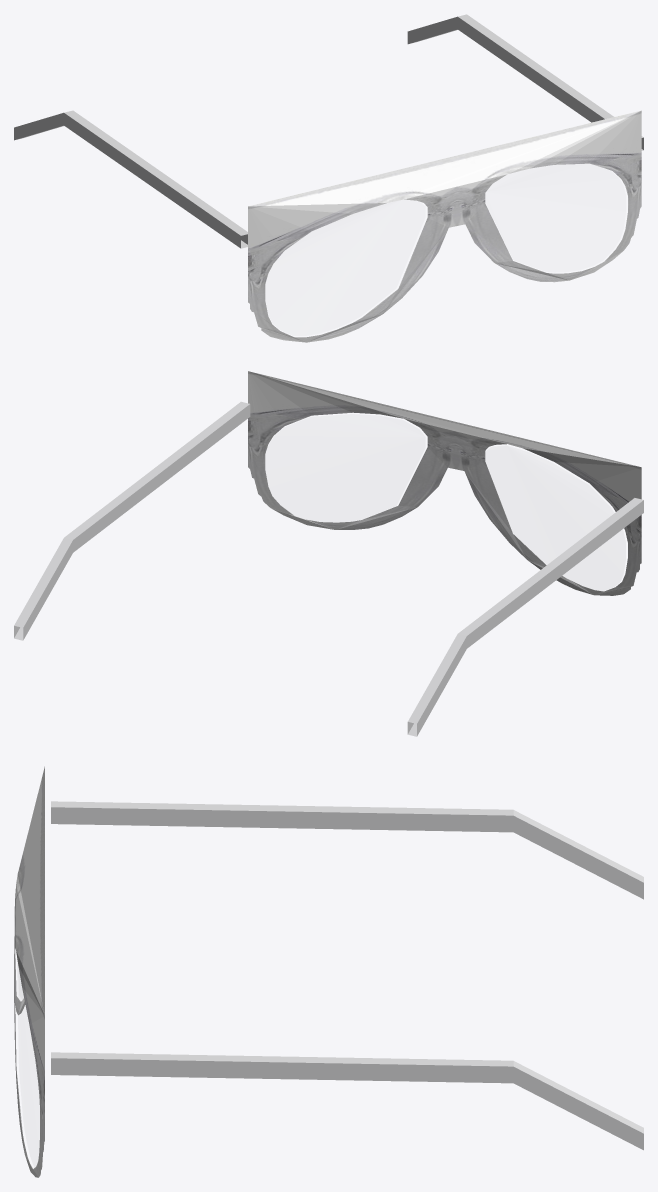
The model's file is gothamstyle-249_crystal.glb.
3 renders of one model, top to bottom at view 1: azimuth 30°, elevation 25°; view 2: azimuth 150°, elevation 25°; view 3: azimuth 270°, elevation 25°, orthographic. The views are drawn at different scales.
Parts seen in each view (by area): view 1: frame_front, temple_viewer_left, temple_viewer_right; view 2: frame_front, temple_viewer_left, temple_viewer_right; view 3: temple_viewer_left, temple_viewer_right, frame_front.
Boxes of the visible parts, x1,y1,x2,y2 form: frame_front: (248, 110, 641, 342); temple_viewer_left: (14, 110, 247, 248); temple_viewer_right: (407, 14, 643, 150); frame_front: (248, 371, 641, 595); temple_viewer_left: (407, 498, 643, 736); temple_viewer_right: (14, 401, 250, 640); temple_viewer_left: (51, 801, 643, 899); temple_viewer_right: (51, 1052, 643, 1150); frame_front: (14, 766, 44, 1177).
Size of the model in its own units: 0.1312 by 0.0453 by 0.136.
3 materials, 2 textured.
